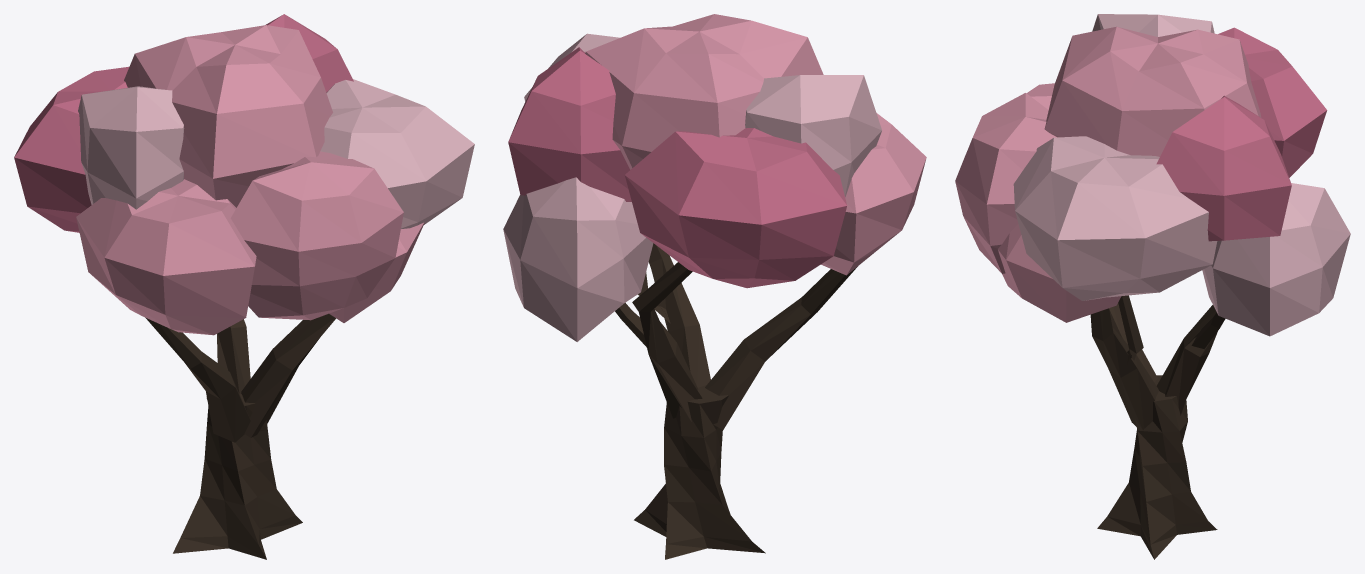
The model's file is cherry-blossom-tree-3f7ab7.glb.
3 views of the same model, side by side, from view 1: azimuth 30°, elevation 25°; view 2: azimuth 150°, elevation 25°; view 3: azimuth 270°, elevation 25° (orthographic). The views are drawn at different scales.
Visible parts, largest first — view 1: cherry-blossom-tree-mesh; view 2: cherry-blossom-tree-mesh; view 3: cherry-blossom-tree-mesh.
Boxes of the visible parts, box(x1,y1,x2,y2) form: cherry-blossom-tree-mesh: box(14, 14, 474, 559); cherry-blossom-tree-mesh: box(503, 14, 926, 559); cherry-blossom-tree-mesh: box(955, 14, 1350, 559).
Bounding box in the file's own units: 3.53 × 4.5 × 3.31.
